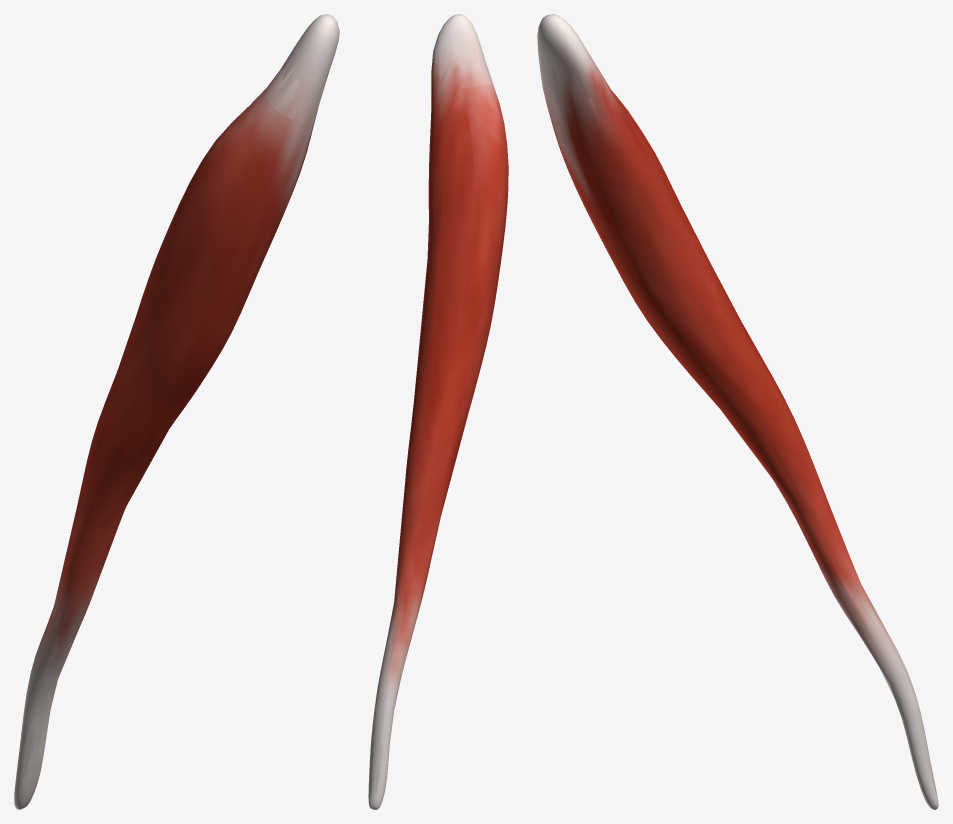
The model's file is L Tibialis Cranialis.fbx.
3 views of the same model, side by side, from view 1: azimuth 30°, elevation 25°; view 2: azimuth 150°, elevation 25°; view 3: azimuth 270°, elevation 25° (orthographic). The views are drawn at different scales.
Parts seen in each view (by area): view 1: L Tibialis Cranialis, L Tibialis Cranialis low; view 2: L Tibialis Cranialis, L Tibialis Cranialis low; view 3: L Tibialis Cranialis, L Tibialis Cranialis low.
Part boxes in pixels (x1,y1,x2,y2): L Tibialis Cranialis: (14,14,339,809); L Tibialis Cranialis low: (22,18,337,777); L Tibialis Cranialis: (368,14,508,809); L Tibialis Cranialis low: (370,21,500,800); L Tibialis Cranialis: (537,14,938,809); L Tibialis Cranialis low: (540,18,936,793).
Size of the model in its own units: 6.8 by 45.28 by 19.71.
